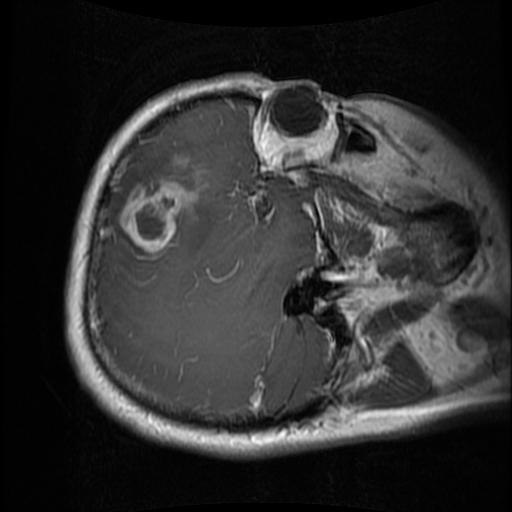glioma: (116, 179, 198, 253)
